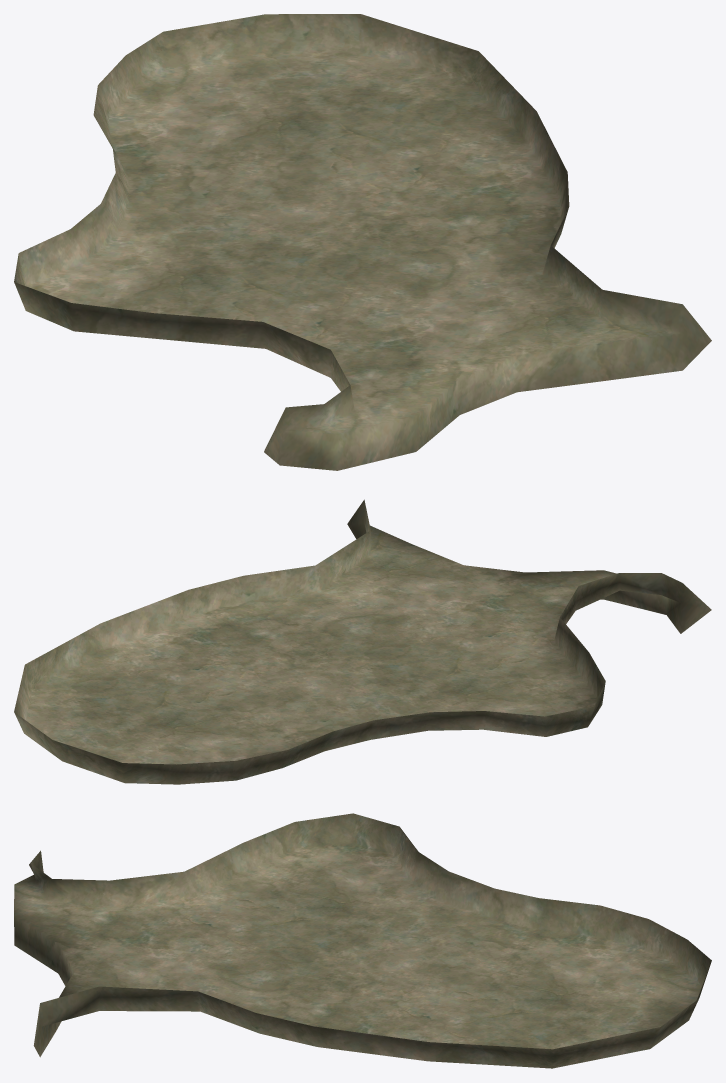
File: EKH_CAVERNS_PS_CA_OBJECT07.fbx
The picture shows the model from 3 angles, top to bottom: view 1: azimuth 30°, elevation 25°; view 2: azimuth 150°, elevation 25°; view 3: azimuth 270°, elevation 25°; orthographic projection. The views are drawn at different scales.
Visible parts, largest first — view 1: EKH_CAVERNS_PS_CA_OBJECT07; view 2: EKH_CAVERNS_PS_CA_OBJECT07; view 3: EKH_CAVERNS_PS_CA_OBJECT07.
Part boxes in pixels (x1,y1,x2,y2): EKH_CAVERNS_PS_CA_OBJECT07: (14,14,711,470); EKH_CAVERNS_PS_CA_OBJECT07: (14,499,711,784); EKH_CAVERNS_PS_CA_OBJECT07: (14,813,711,1068).
Size of the model in its own units: 80815 by 8865 by 101699.
1 material, 1 textured.
